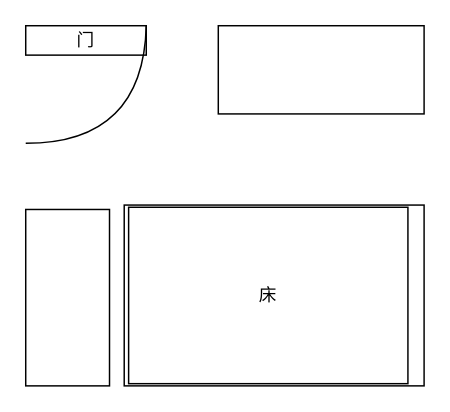
This 450x412 diagram has some shape labels left out. The shapes that lost their labels are listed below. From the top down, each one's box as (x1, y1, x2, y2) in pixels, then its label:
(217, 24, 424, 114): 桌子
(24, 208, 110, 386): 衣柜
